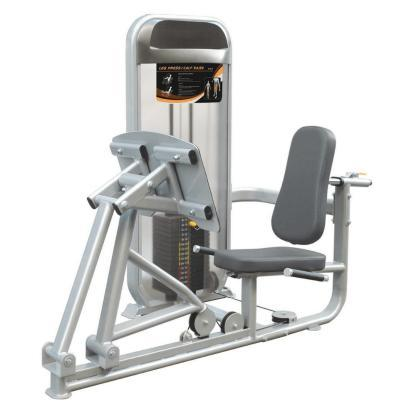leg press: (34, 8, 389, 405)
